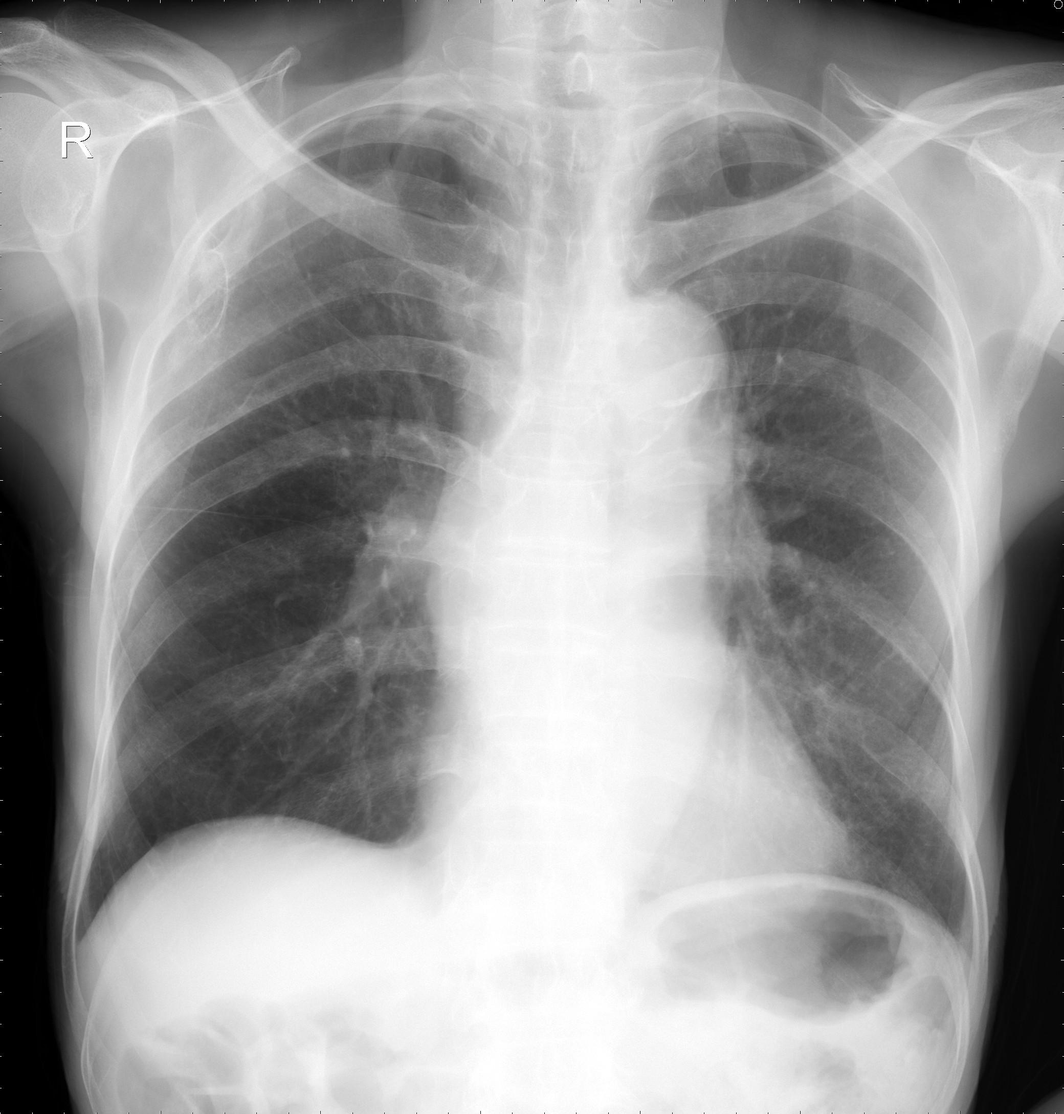Aortic enlargement: (604, 286, 733, 504)
Pleural thickening: (683, 102, 839, 155), (301, 100, 431, 136)
